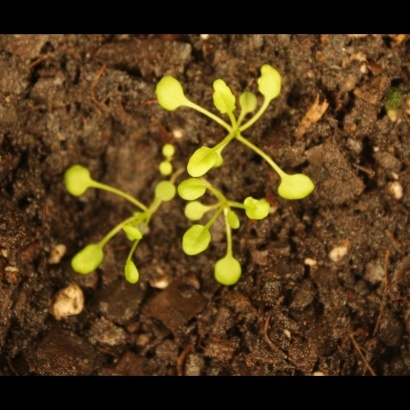leaf: (150, 73, 191, 115), (63, 244, 109, 280), (57, 160, 95, 196), (209, 254, 249, 288), (277, 170, 316, 202), (207, 77, 239, 116), (180, 224, 215, 258), (187, 143, 221, 178), (256, 63, 283, 105), (241, 194, 276, 225), (117, 256, 152, 286), (119, 220, 149, 248), (178, 176, 209, 203), (221, 203, 245, 236), (237, 91, 260, 115), (184, 200, 207, 223), (154, 180, 177, 203), (159, 137, 182, 160), (155, 156, 178, 179)
